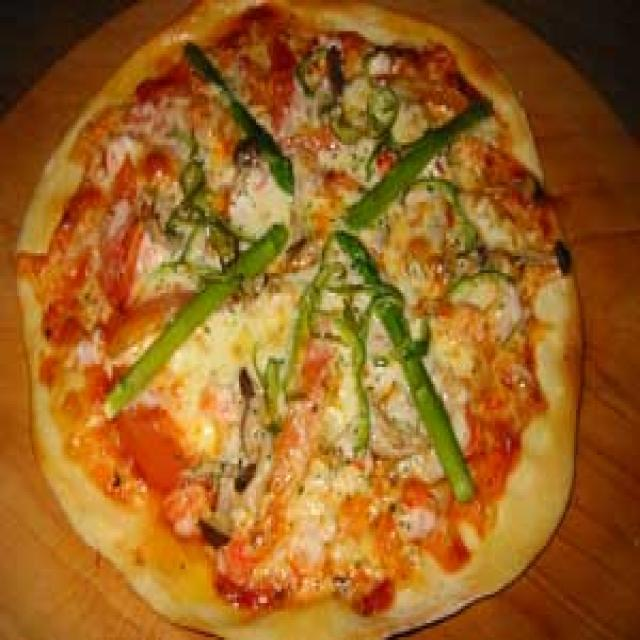Pizza: (5, 0, 599, 640)
